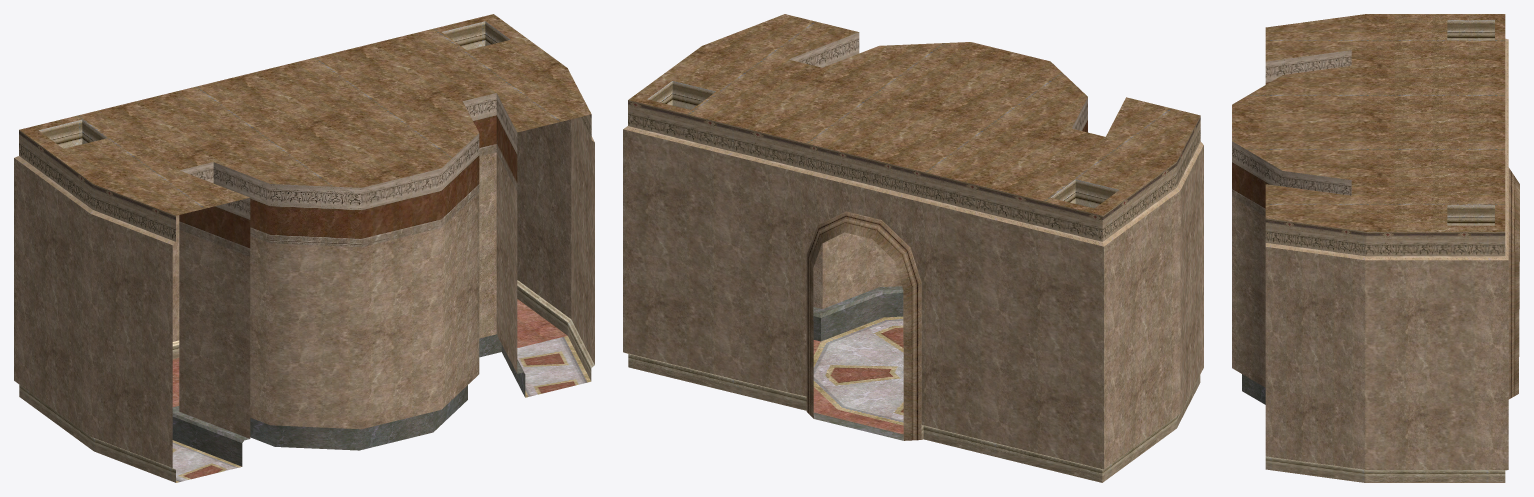
Rendered from thm_nboo_thed_theed_palace_r2_mesh_r2.fbx.
3 views of the same model, side by side, from view 1: azimuth 30°, elevation 25°; view 2: azimuth 150°, elevation 25°; view 3: azimuth 270°, elevation 25° (orthographic). The views are drawn at different scales.
Parts seen in each view (by area): view 1: mesh_node; view 2: mesh_node; view 3: mesh_node.
Part boxes in pixels (bbox=[...]): mesh_node: bbox=[14, 14, 594, 482]; mesh_node: bbox=[623, 14, 1203, 482]; mesh_node: bbox=[1232, 14, 1519, 482].
Size of the model in its own units: 16.95 by 9 by 9.34.
